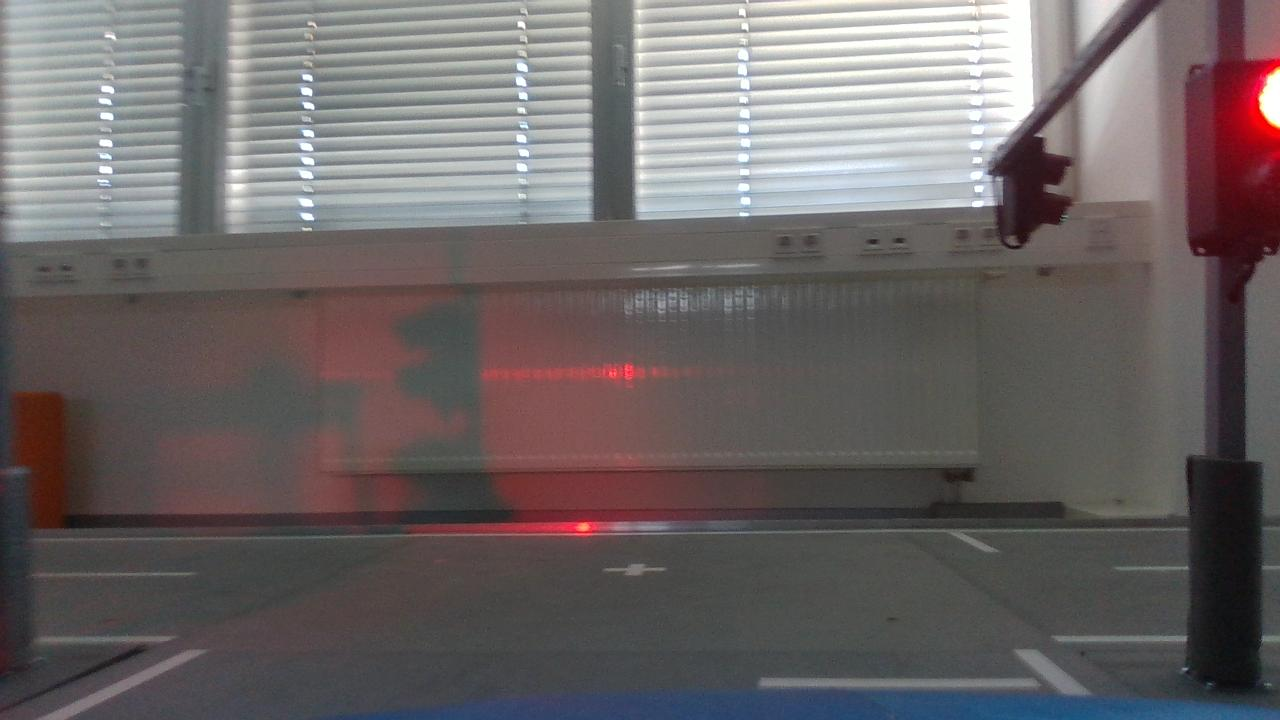traffic_light_red: (1180, 53, 1280, 278)
